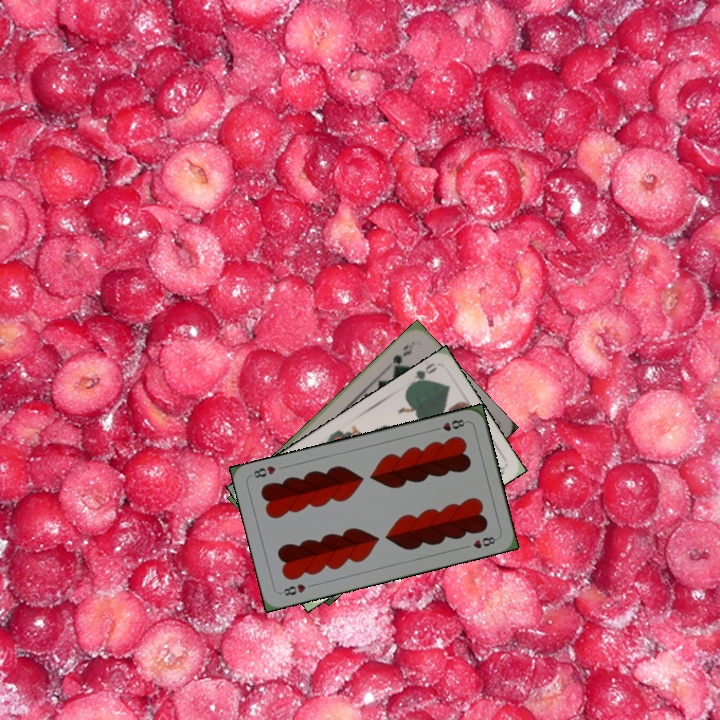G9: (388, 338, 416, 373)
GO: (404, 359, 440, 389)
H8: (430, 415, 470, 434), (276, 580, 308, 598)
